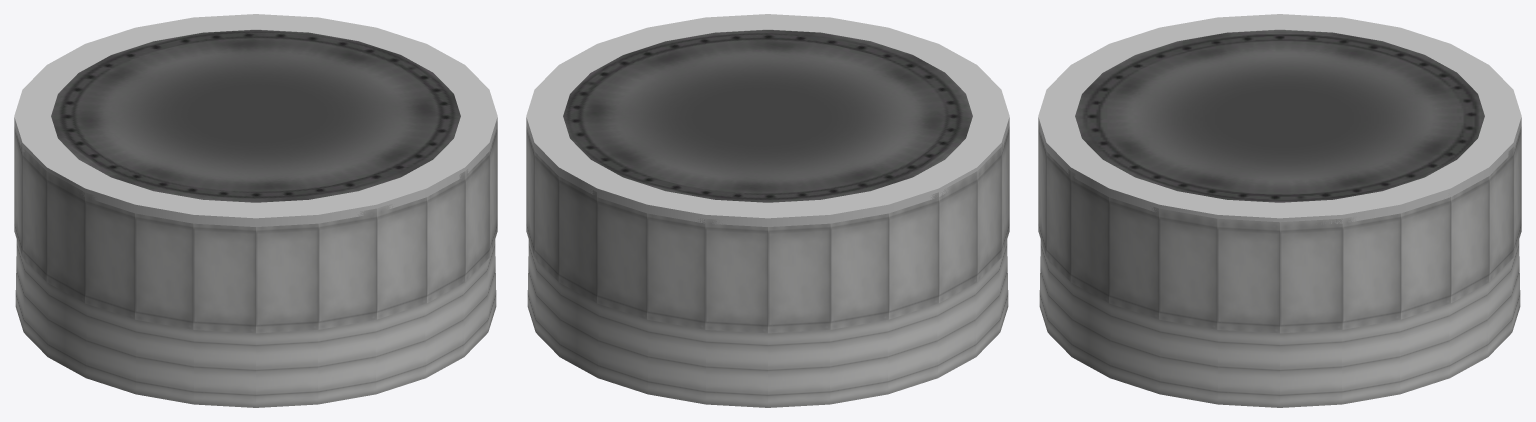
File: Apollo_Block4_ServiceEngine.dae
3 renders of one model, left to right at view 1: azimuth 30°, elevation 25°; view 2: azimuth 150°, elevation 25°; view 3: azimuth 270°, elevation 25°, orthographic.
Visible parts, largest first — view 1: fairing, polySurface29, pCylinder138; view 2: fairing, polySurface29, pCylinder138; view 3: fairing, polySurface29, pCylinder138.
Boxes of the visible parts, x1,y1,x2,y2 form: fairing: (14, 121, 497, 407); polySurface29: (51, 30, 460, 202); pCylinder138: (14, 14, 497, 226); fairing: (526, 126, 1009, 407); polySurface29: (563, 30, 972, 202); pCylinder138: (526, 14, 1009, 226); fairing: (1038, 121, 1521, 407); polySurface29: (1075, 30, 1484, 202); pCylinder138: (1038, 14, 1521, 223).
Size of what is drawn, in the model's own units: 2.5 by 1.09 by 2.5.
